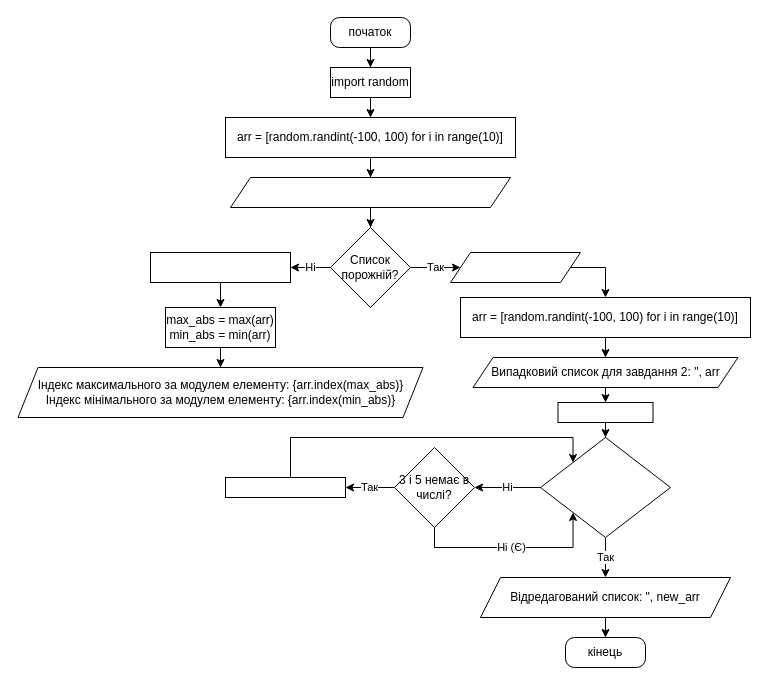
Image size: 768x685. Some labels were removed from this diagram. The shapes that lost their labels are listed below. From the top down, each one's box as (x1, y1, x2, y2) in pixels, then its label:
(230, 176, 510, 208): "Випадковий список для завдання 1: ", arr
(150, 252, 290, 282): arr = list(map(abs, arr))
(450, 252, 580, 282): Список порожній!
(557, 402, 653, 422): new_arr = []
(224, 476, 346, 498): new_arr.append(i)
(540, 436, 670, 538): Останній елемент опрацьовано?
